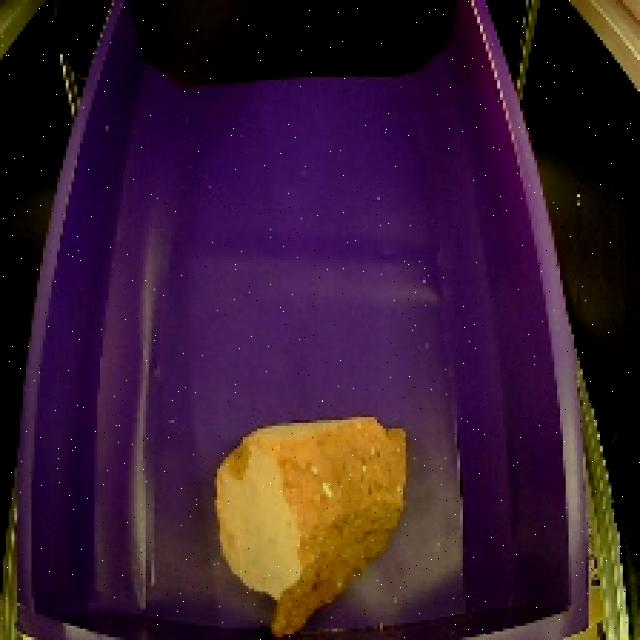brick: (205, 403, 418, 640)
